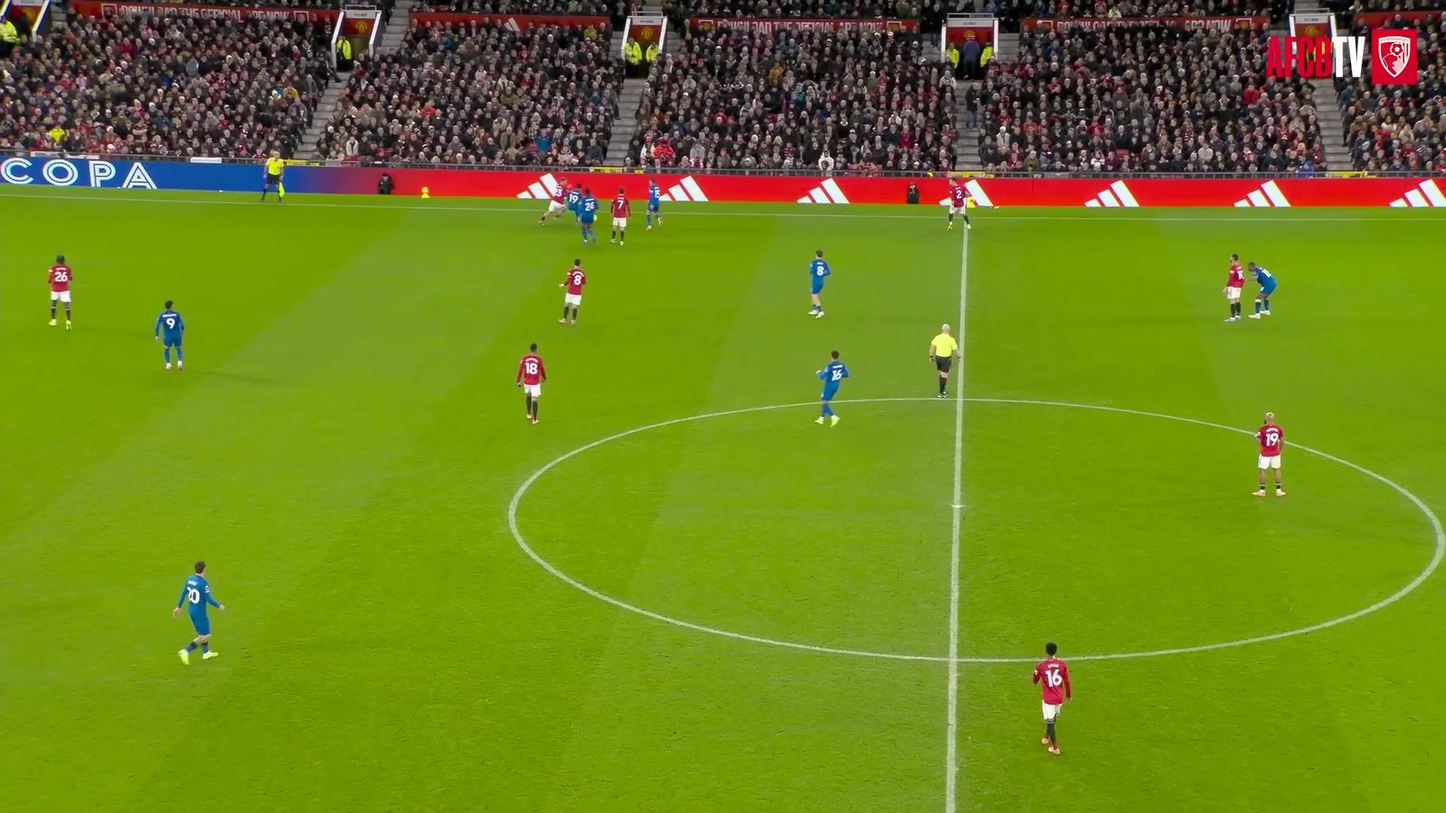player: (173, 561, 224, 664), (1033, 642, 1071, 754), (1253, 412, 1285, 496), (815, 350, 849, 425), (517, 343, 546, 424), (154, 300, 185, 369), (47, 255, 72, 329), (559, 258, 586, 325), (1249, 262, 1277, 318), (809, 250, 831, 317), (1224, 254, 1244, 321), (538, 178, 566, 224), (947, 179, 971, 229), (610, 187, 630, 245), (578, 189, 598, 245), (645, 178, 661, 230), (566, 182, 583, 221)
referee: (929, 324, 959, 397), (261, 152, 285, 201)
